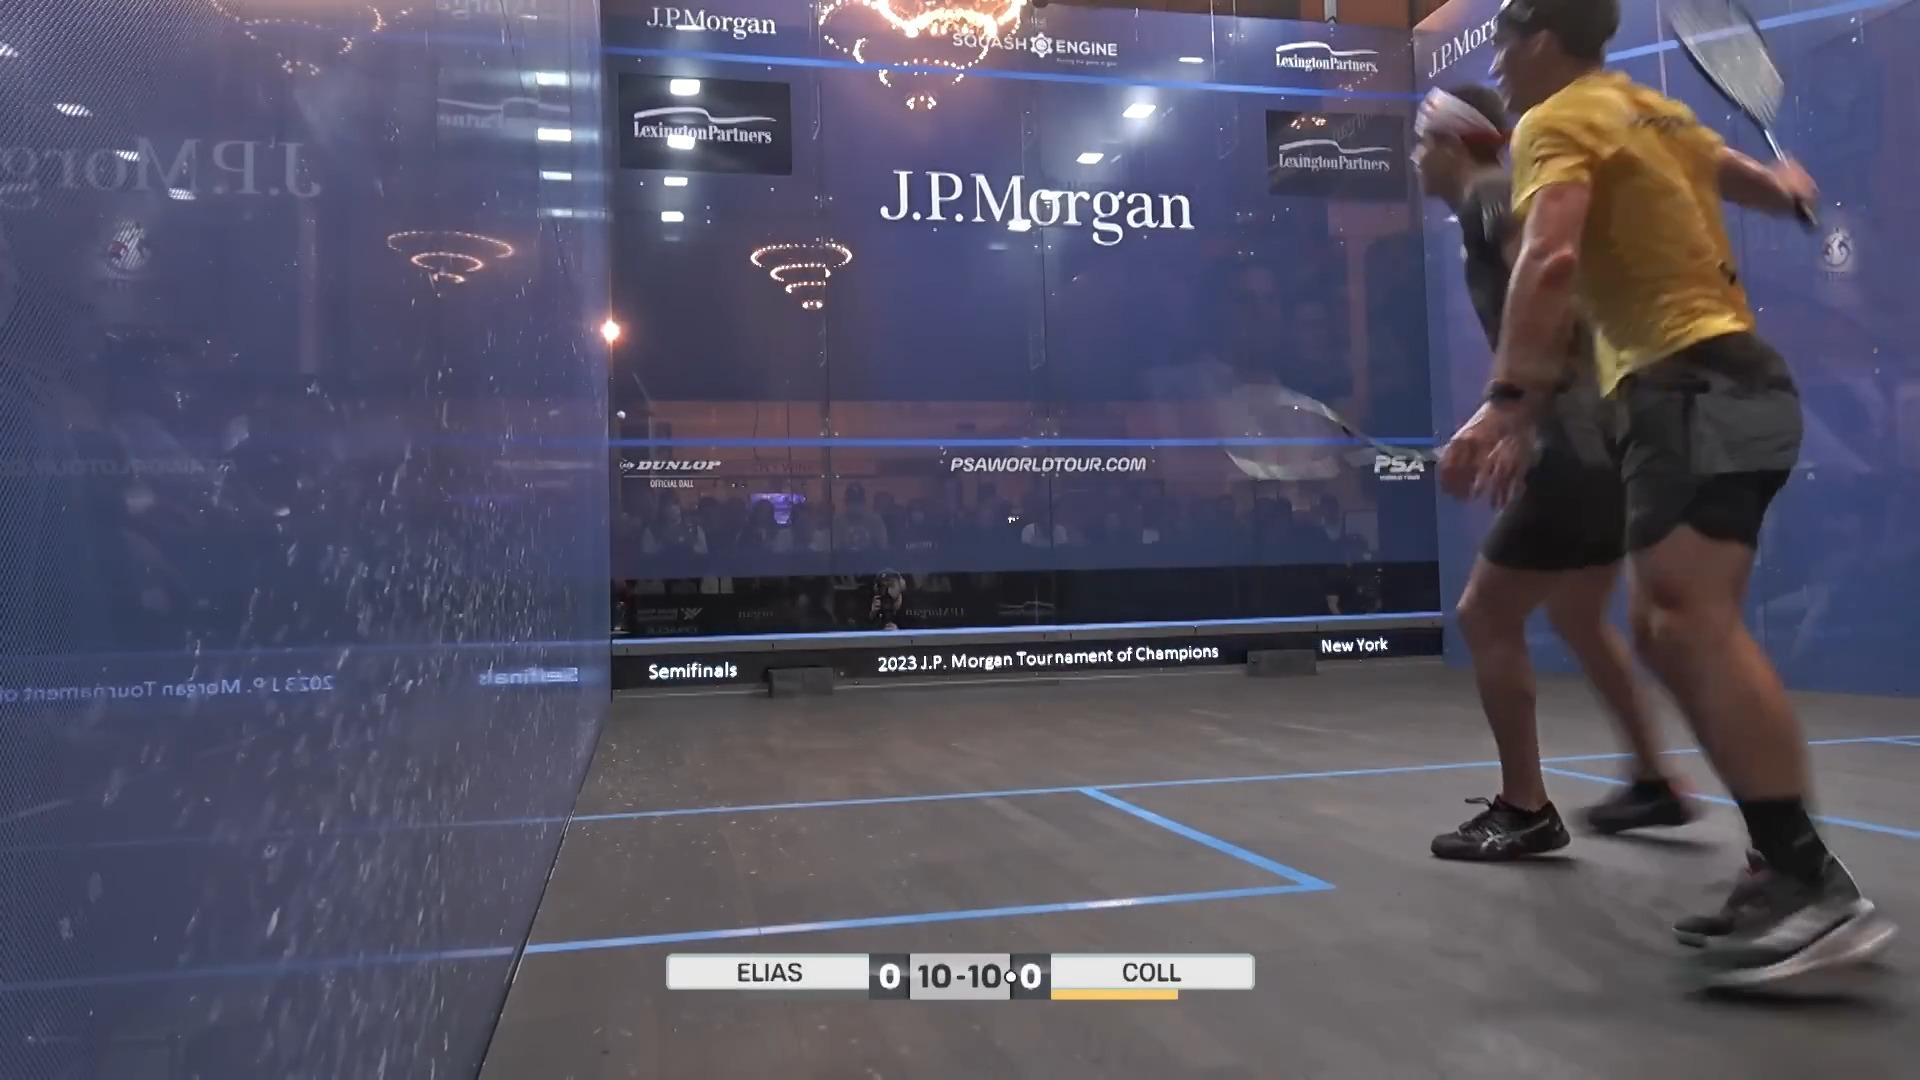Racket: (1650, 0, 1830, 236), (1205, 376, 1449, 492)
